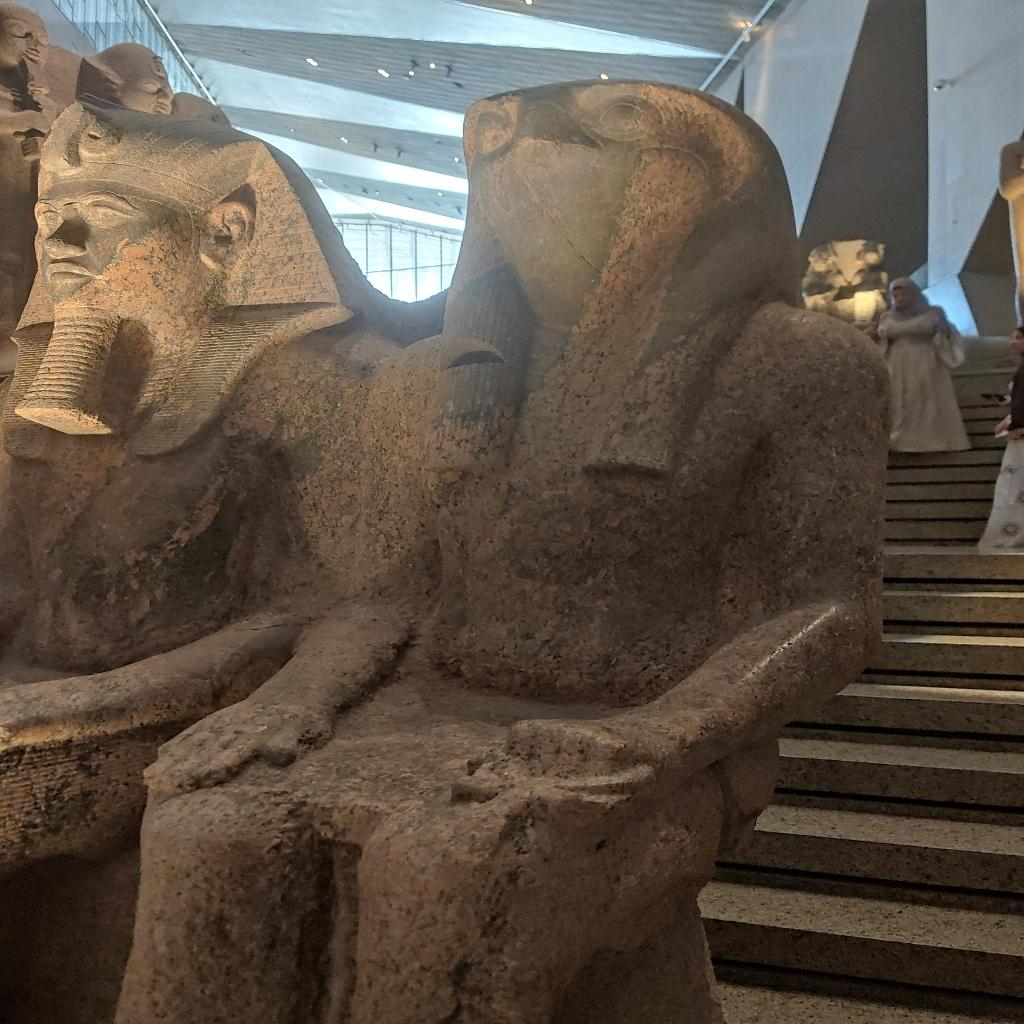Statue of Amenhotep III and God Re-Horakhty: (0, 74, 894, 1024)
